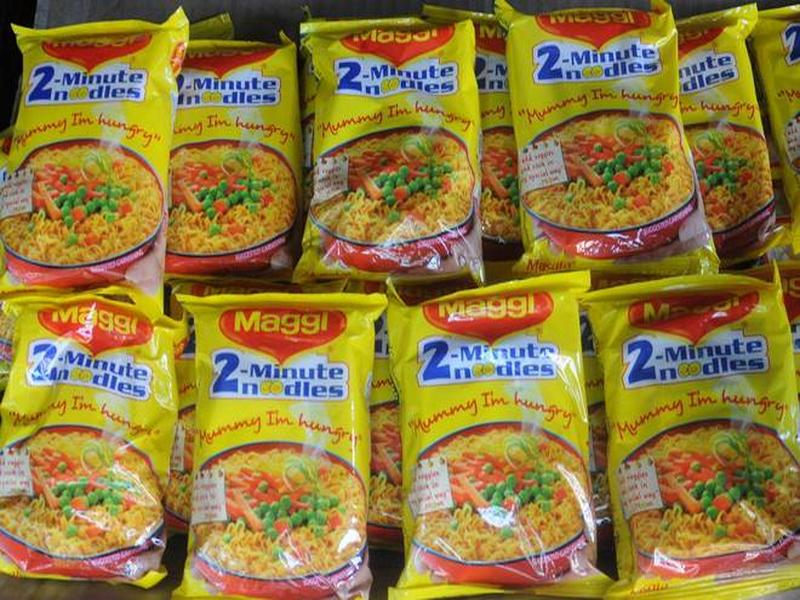maggi-small: (386, 280, 607, 593), (588, 278, 800, 598), (177, 296, 384, 600), (501, 5, 720, 272), (2, 291, 175, 587), (303, 22, 487, 267), (11, 22, 171, 299), (167, 25, 308, 278)
